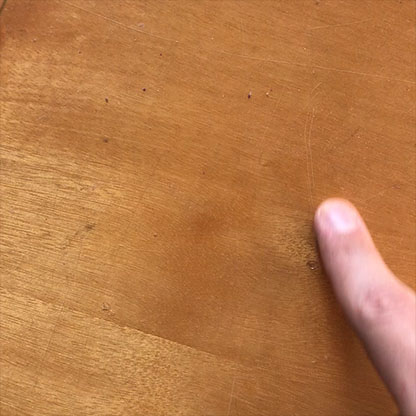fingertip: (308, 188, 372, 248)
